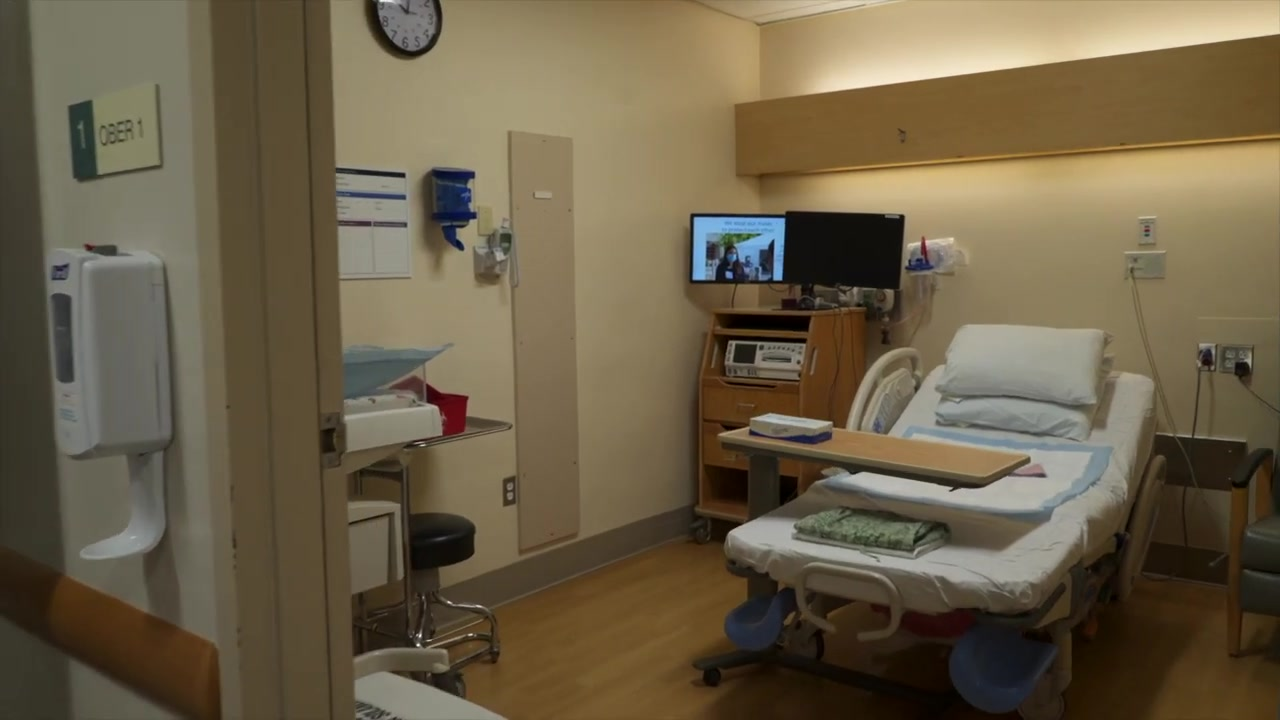bedrail: (1109, 451, 1172, 604), (835, 341, 930, 441)
bedside_monitor: (781, 205, 910, 295), (690, 211, 791, 286)
bedside_table: (687, 309, 870, 528)
chair: (355, 511, 500, 695), (1225, 446, 1280, 658)
dispenser: (42, 235, 182, 563), (422, 165, 482, 250)
handle: (733, 399, 759, 411)
hospital_bed: (698, 314, 1165, 720)
overbed_table: (712, 421, 1034, 712)
telephone: (479, 215, 527, 292)
utility_cart: (373, 406, 527, 692)
